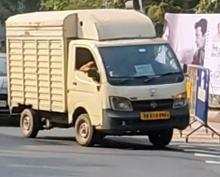Truck: (4, 7, 191, 149)
